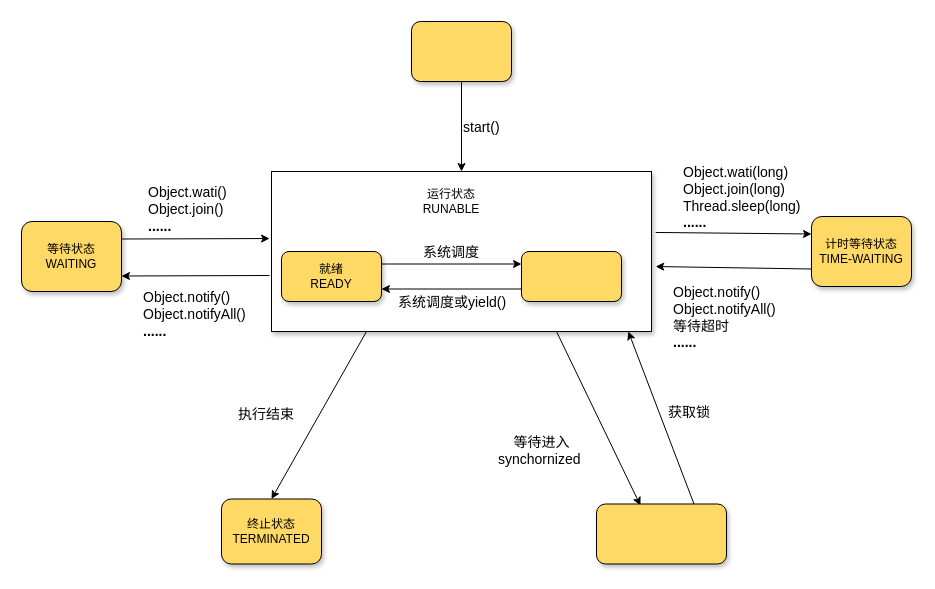
This 935x589 diagram has some shape labels left out. The centre of each missing label's shape, as x and y in pixels:
"新建状态 NEW" belongs at point (462, 52).
"运行中 RUNING" belongs at point (572, 277).
"阻塞状态 BLOCKED" belongs at point (662, 535).
